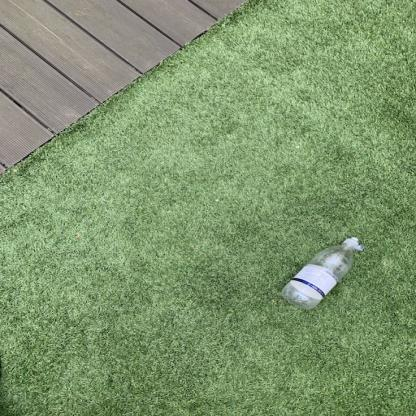trash: (279, 236, 363, 312)
